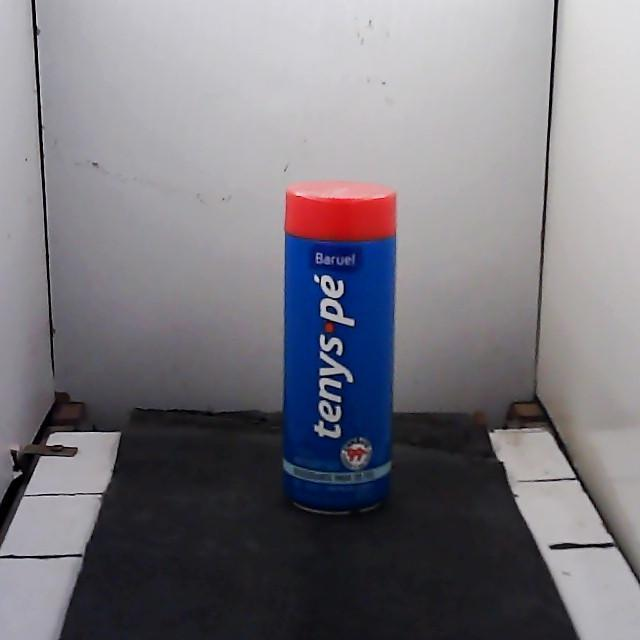plastico: (282, 181, 395, 511)
